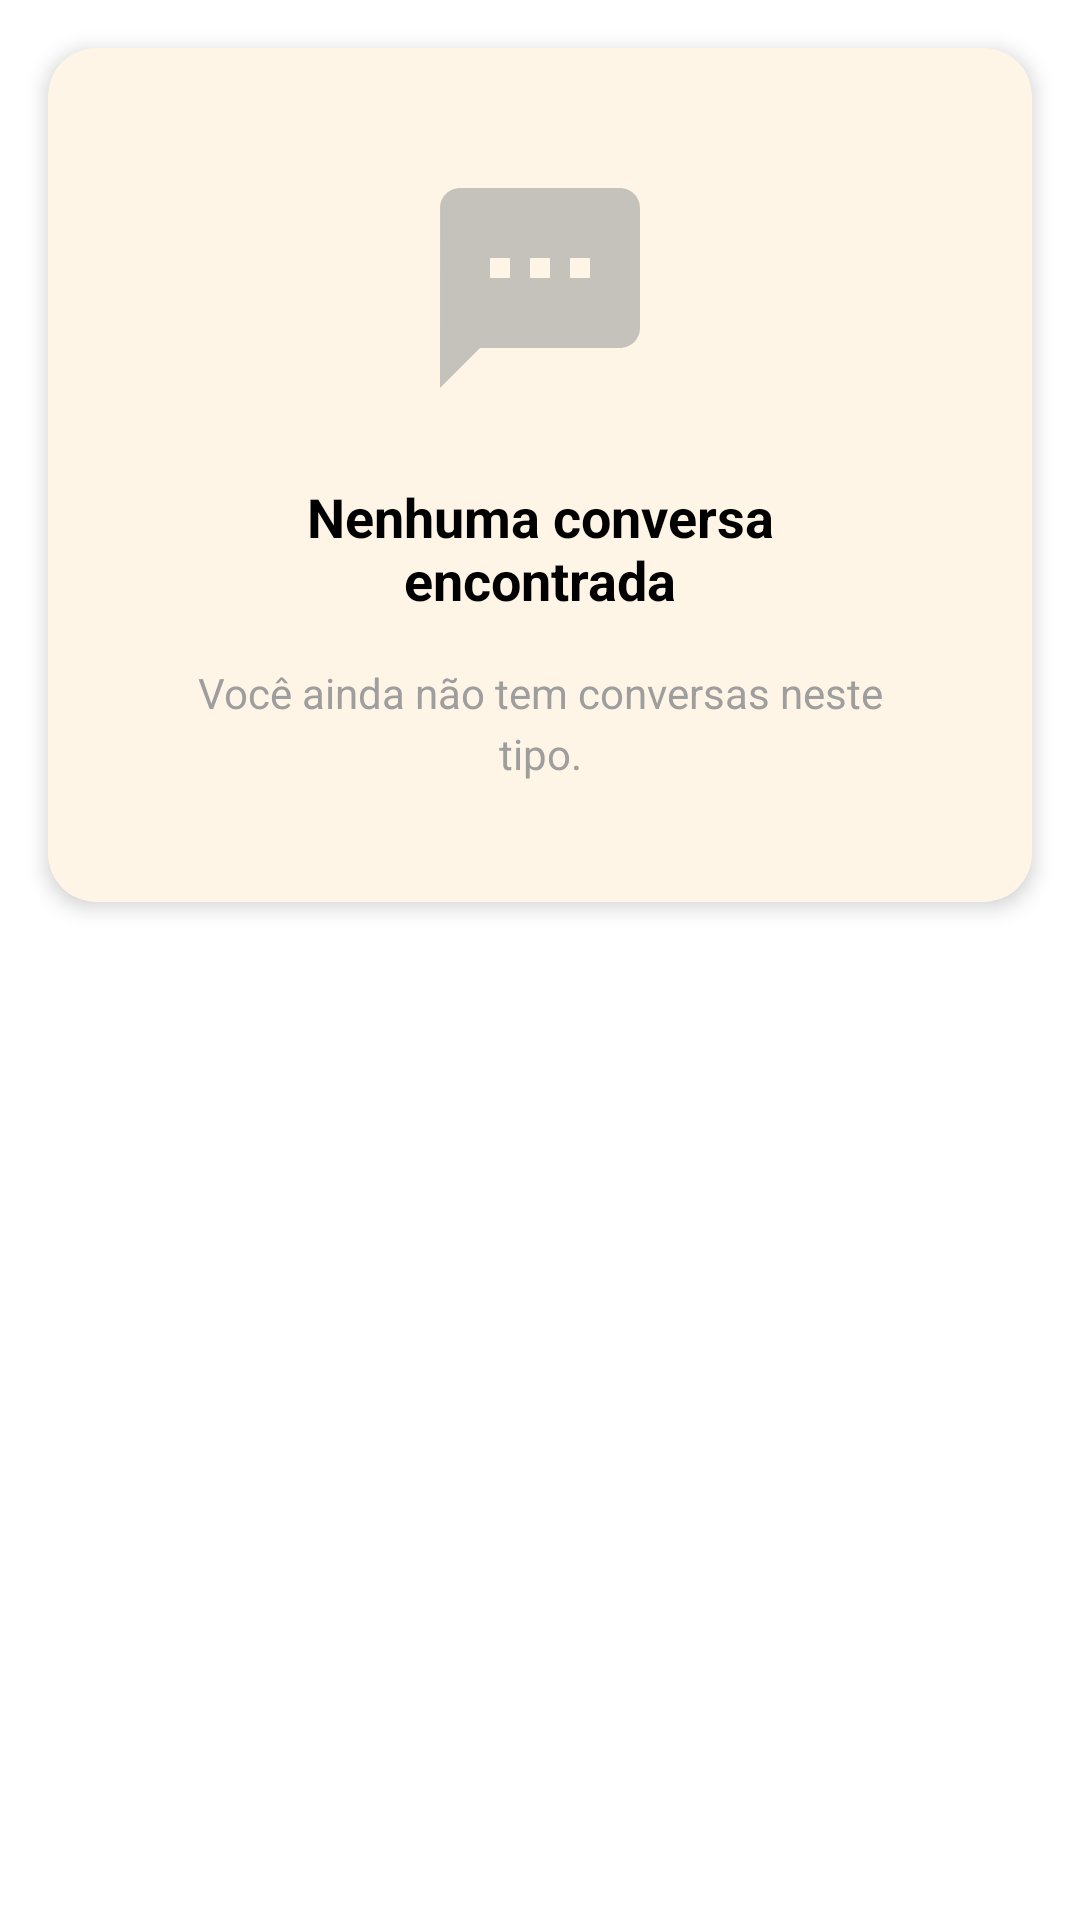

Icon click points for this 1080px x 1920px phone screenshot, format (x=x, y=y):
Ícone de mensagem: (x=540, y=288)
